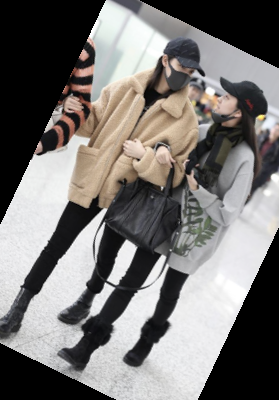mask_weared_incorrect: (207, 67, 275, 136)
